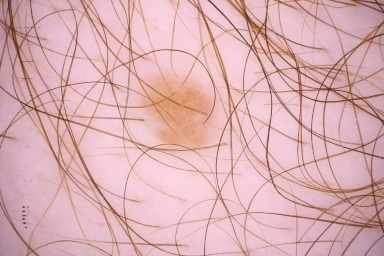nevus: (143, 73, 214, 151)
